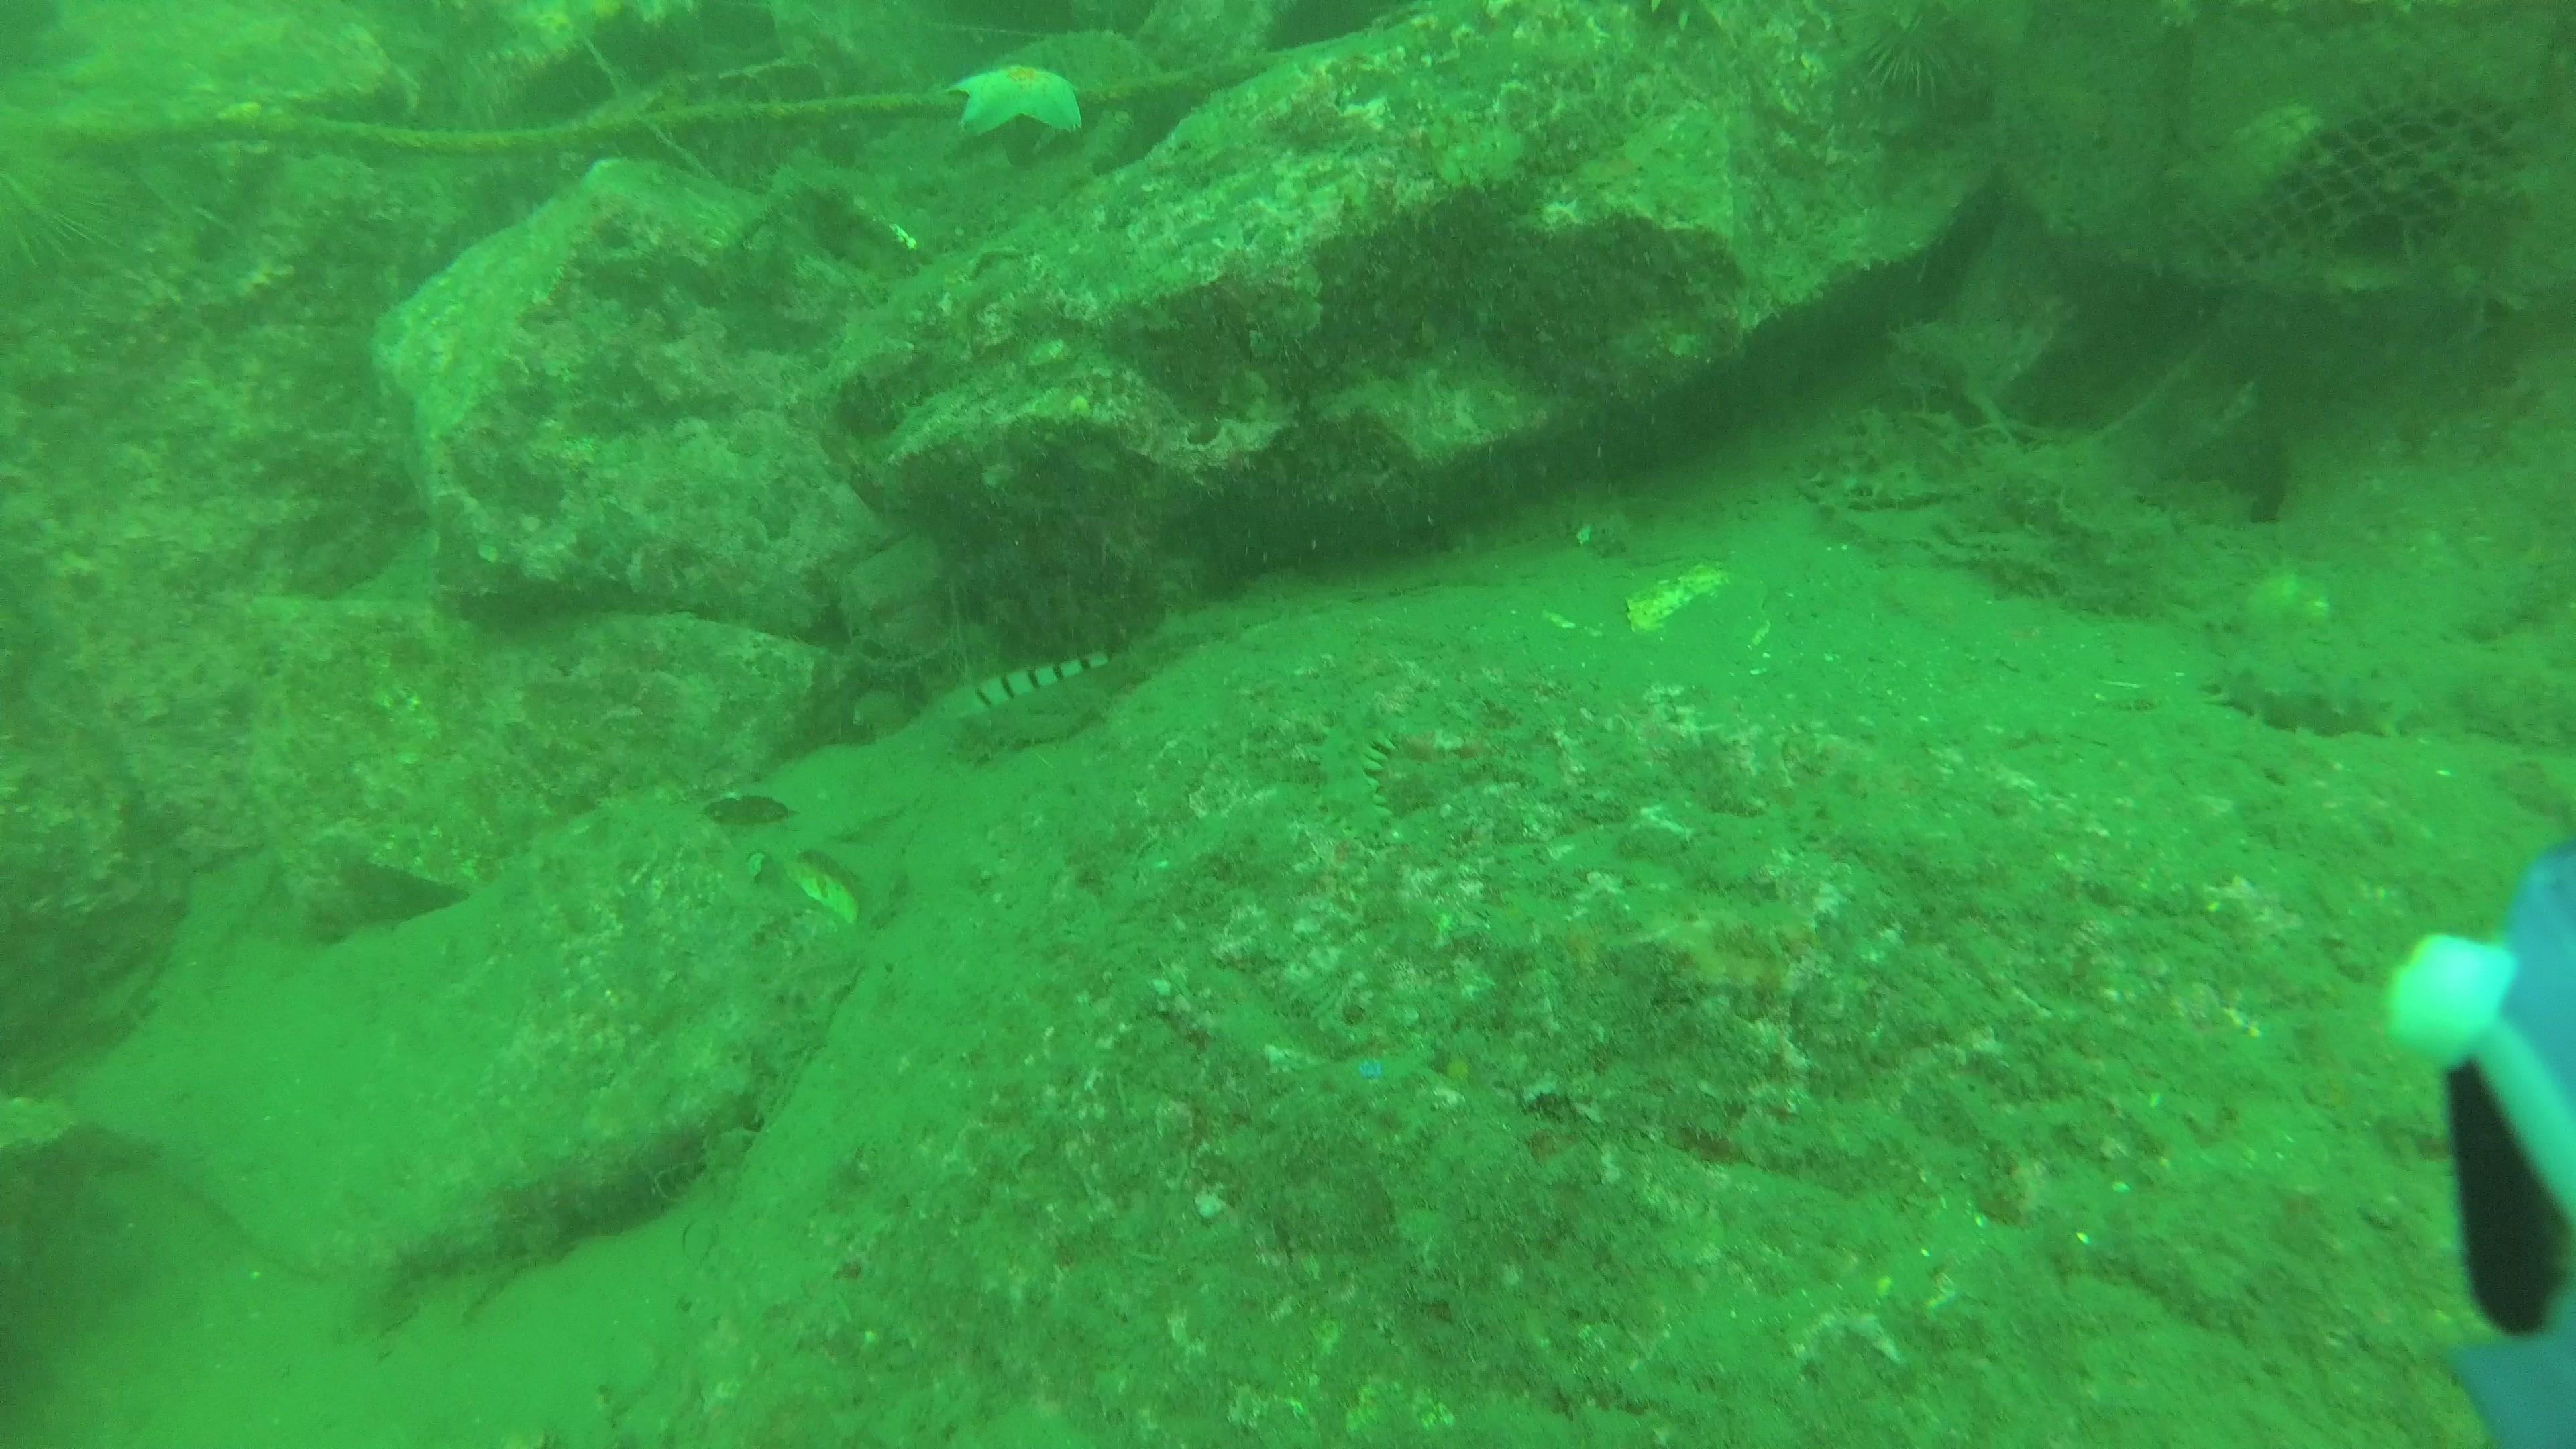starfish: (955, 55, 1092, 145)
